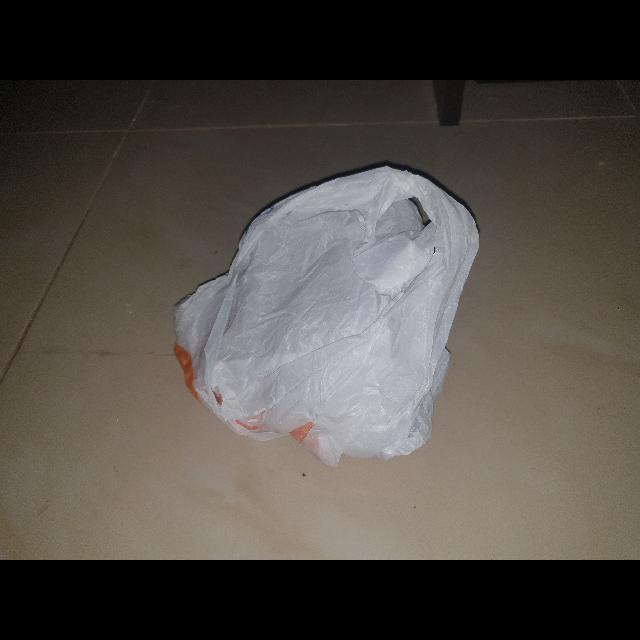plastic_bag: (166, 160, 486, 476)
